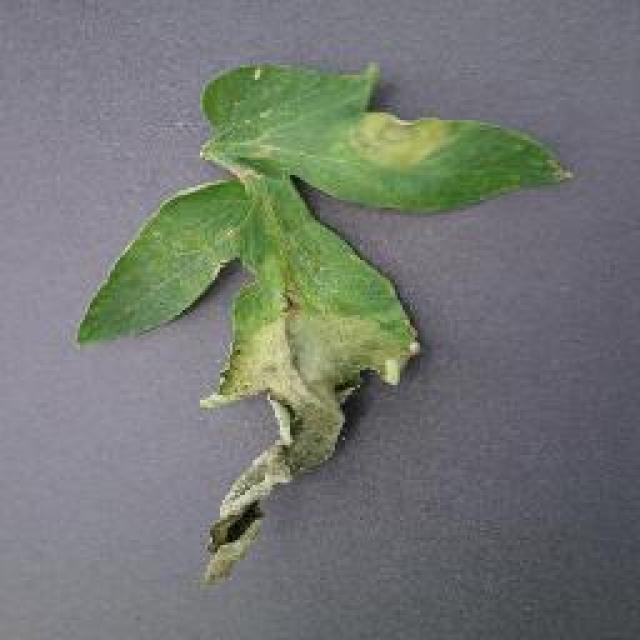Tomato Late Blight: (208, 114, 427, 554)
